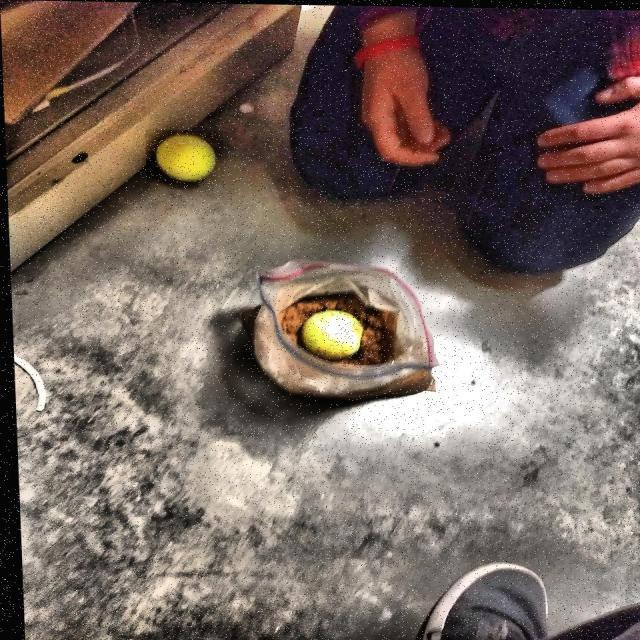tennis-ball: (144, 130, 226, 187), (296, 308, 368, 360)
